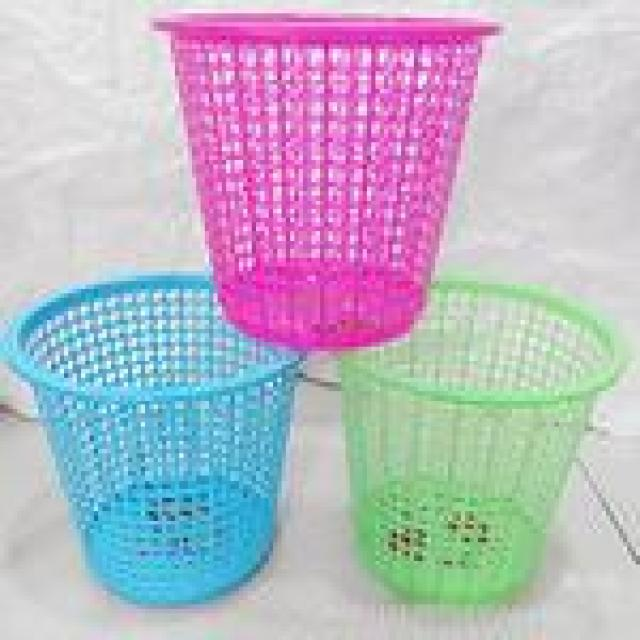dustbin: (141, 4, 511, 355), (1, 262, 317, 612), (331, 272, 632, 611)
